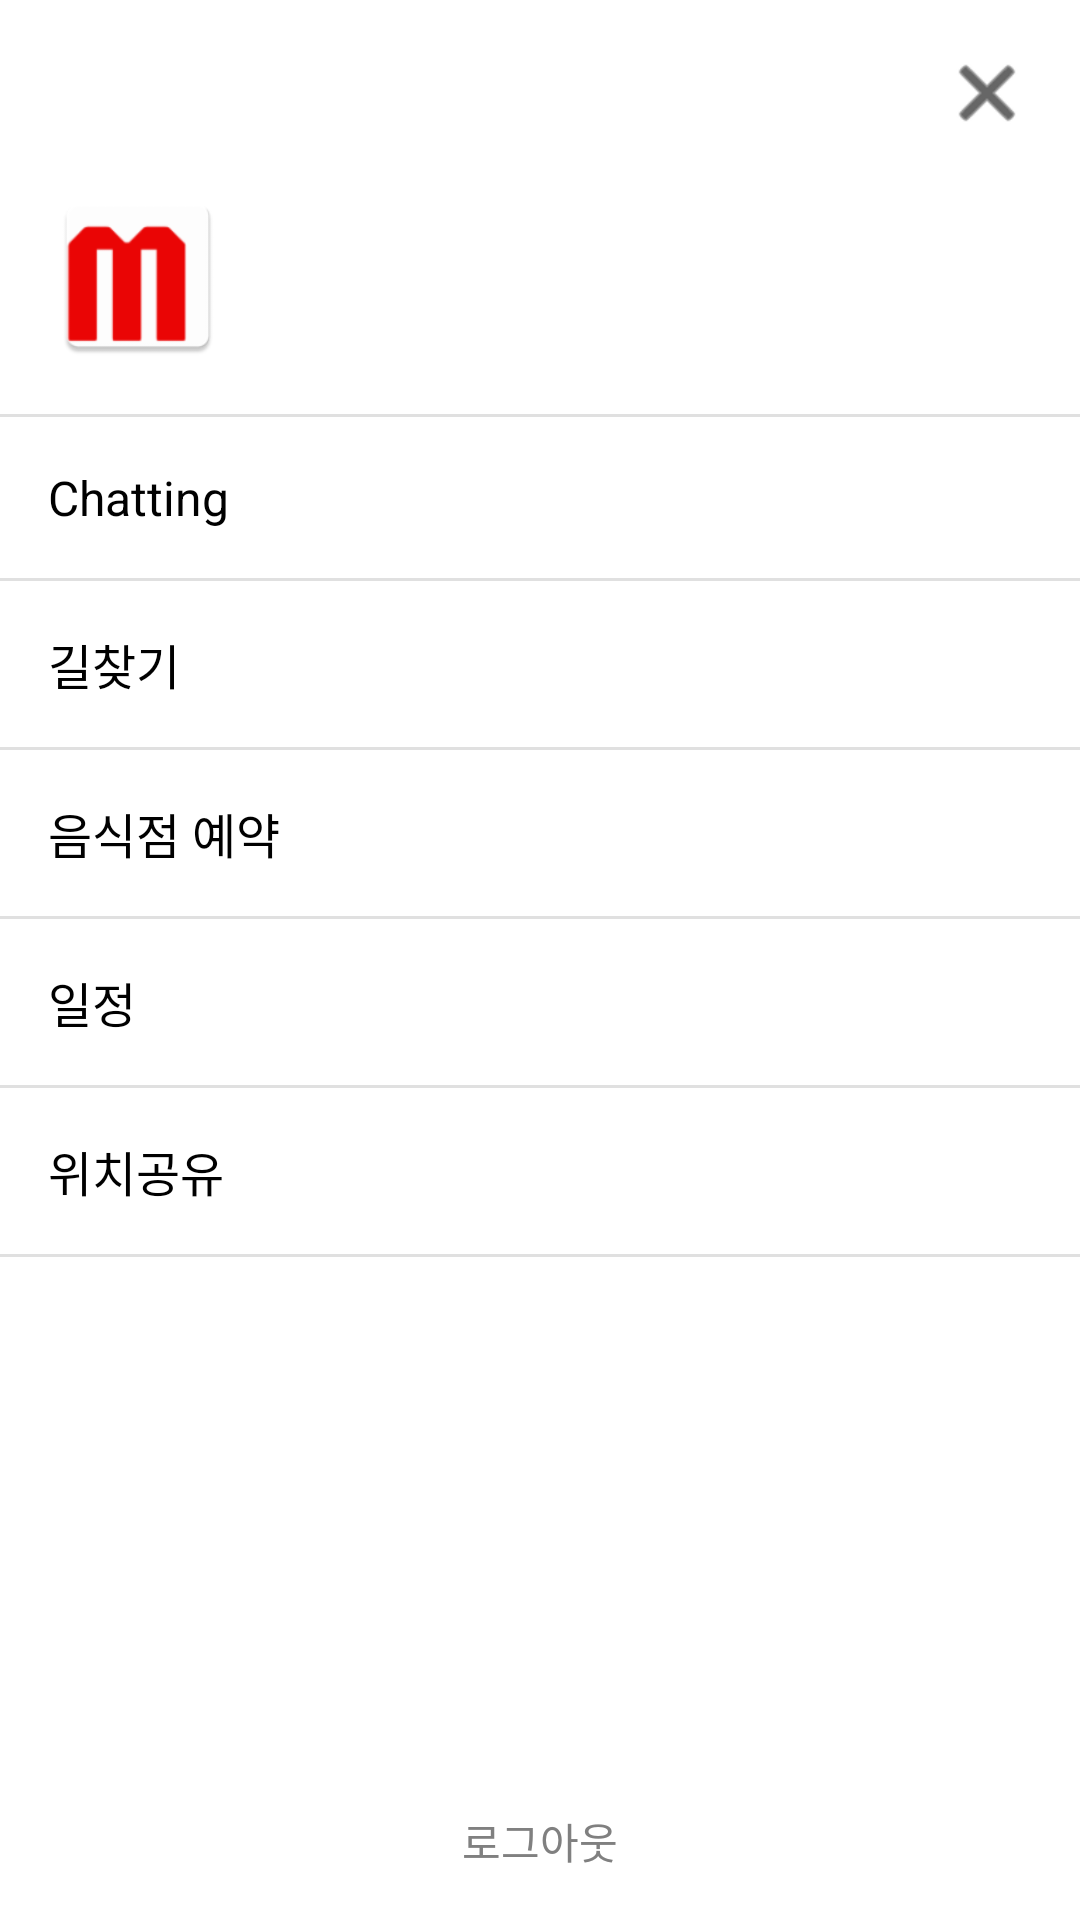

Screen size 1080x1920. Icon name, then its center in pixels as (x=x, y=y):
close clear cancel: (x=987, y=93)
